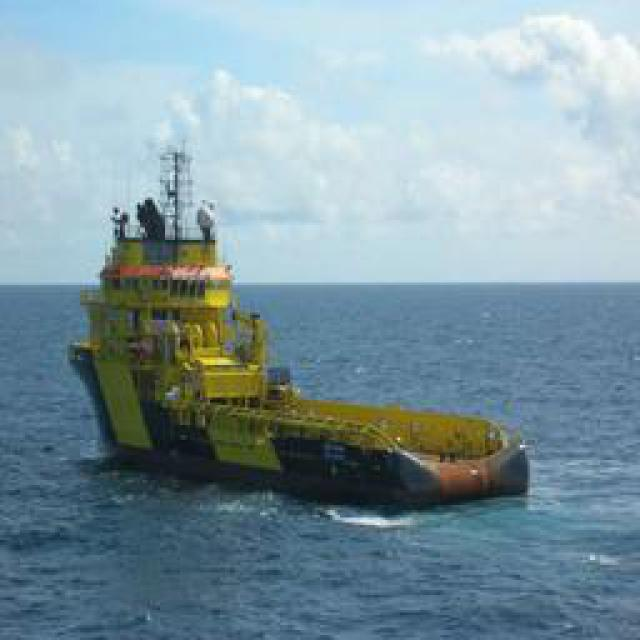Ship: (68, 189, 526, 514)
